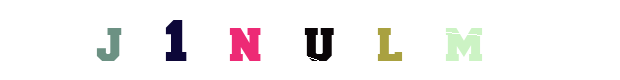1: (204, 0, 284, 80)
J: (85, 0, 165, 80)
L: (347, 0, 427, 80)
M: (379, 0, 459, 80)
N: (210, 0, 290, 80)
U: (271, 0, 351, 80)
